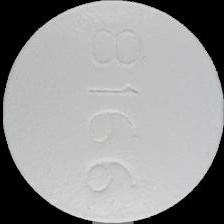64725-8166: (0, 0, 224, 224)
